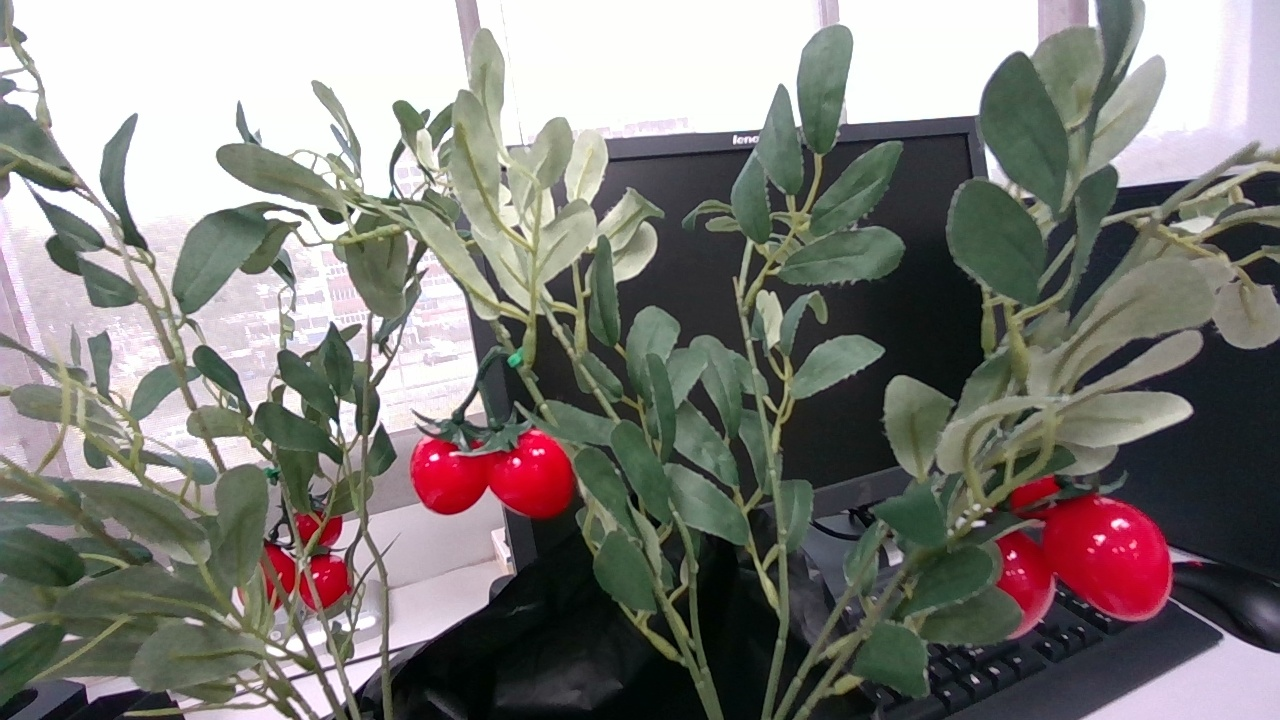peduncle: (478, 346, 503, 377)
strawberry: (1045, 494, 1175, 622), (488, 428, 575, 519), (998, 531, 1058, 638), (411, 436, 490, 514), (309, 554, 349, 608), (1012, 475, 1062, 510), (264, 541, 294, 594), (317, 516, 342, 547), (263, 570, 281, 609), (294, 514, 318, 543), (299, 574, 313, 610)
